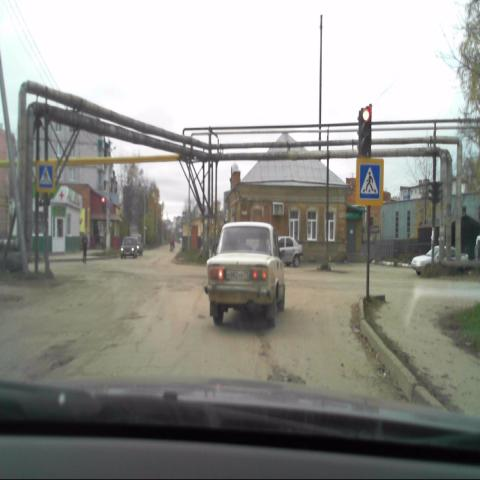5_19_1: (357, 158, 384, 206)
